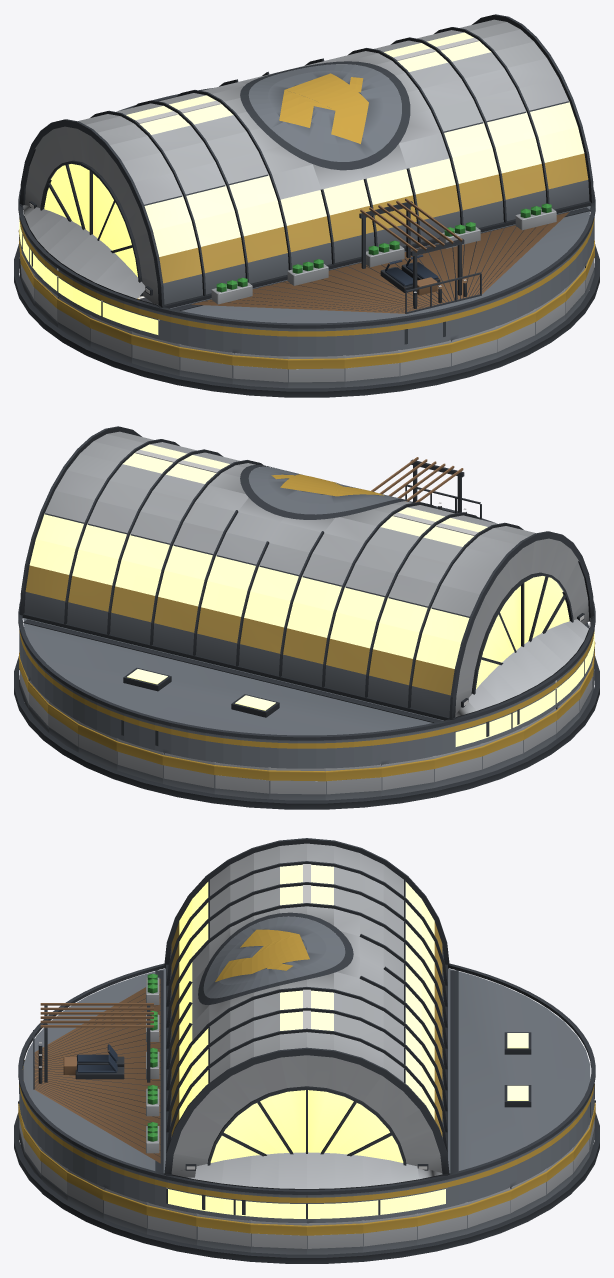
The model's file is residence_tube_executive_l_far.glb.
The picture shows the model from 3 angles, top to bottom: view 1: azimuth 30°, elevation 25°; view 2: azimuth 150°, elevation 25°; view 3: azimuth 270°, elevation 25°; orthographic projection.
Visible parts, largest first — view 1: Roof, Base; view 2: Roof, Base; view 3: Roof, Base.
Boxes of the visible parts, x1,y1,x2,y2 form: Roof: [18, 14, 595, 356]; Base: [14, 215, 599, 397]; Roof: [18, 426, 595, 768]; Base: [14, 623, 599, 809]; Roof: [18, 838, 595, 1222]; Base: [14, 1100, 599, 1263].
Size of the model in its own units: 21.75 by 8.06 by 21.75.
